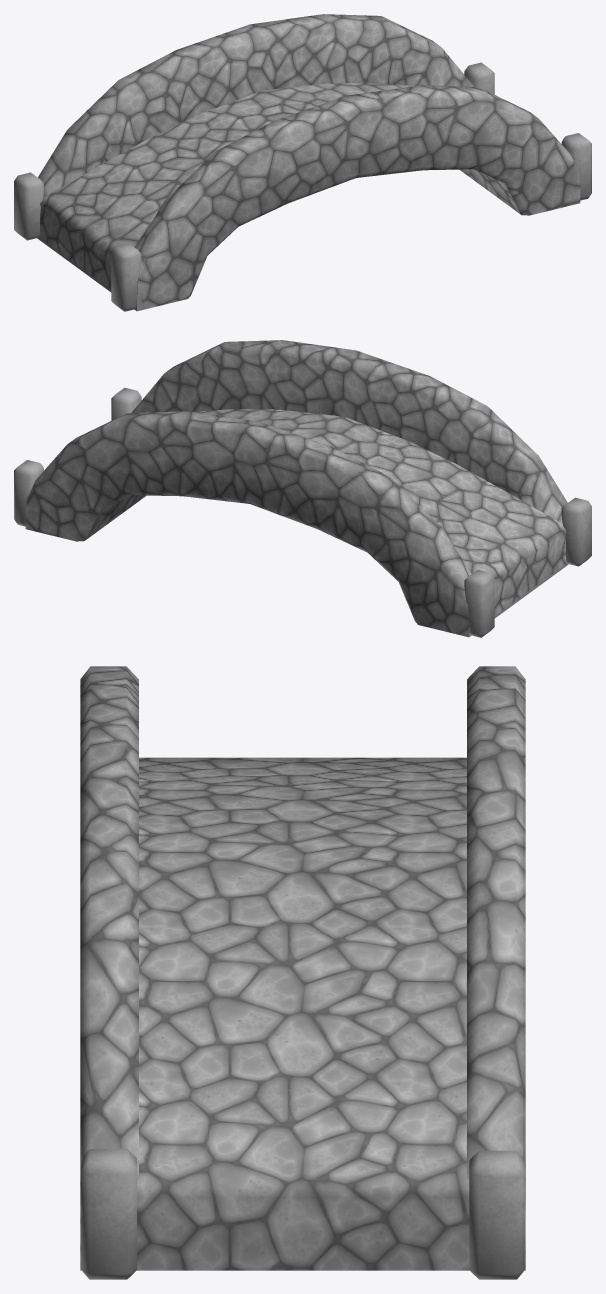
The model's file is stonebridge.fbx.
3 renders of one model, top to bottom at view 1: azimuth 30°, elevation 25°; view 2: azimuth 150°, elevation 25°; view 3: azimuth 270°, elevation 25°, orthographic. The views are drawn at different scales.
Visible parts, largest first — view 1: a stone bridge; view 2: a stone bridge; view 3: a stone bridge.
Part boxes in pixels (x1,y1,x2,y2): a stone bridge: [14, 14, 591, 311]; a stone bridge: [14, 340, 591, 637]; a stone bridge: [80, 666, 525, 1279].
Bounding box in the file's own units: 417 × 130 × 171.
